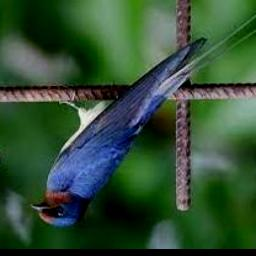Swallow: (31, 5, 256, 226)
